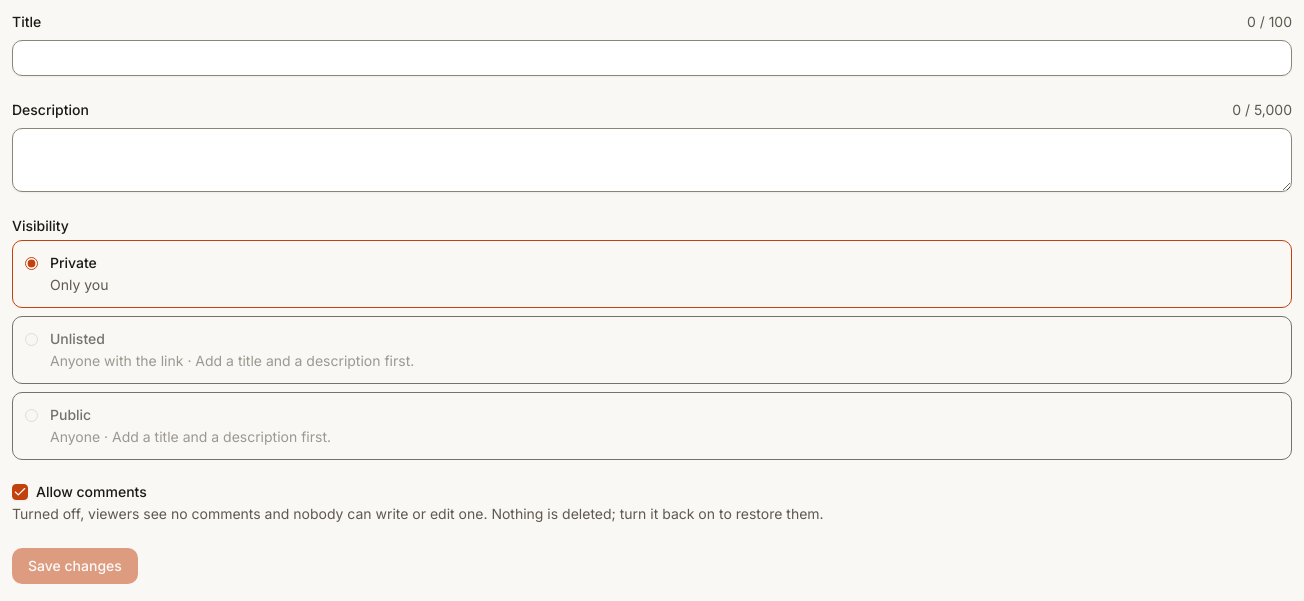
Scenario: EditVideoForm › counts characters as the person types
The image size is (1304, 601).
Type "Holiday" into the field labelled "Title".
click(652, 58); type("Holiday")  # box [12,40,1292,76]
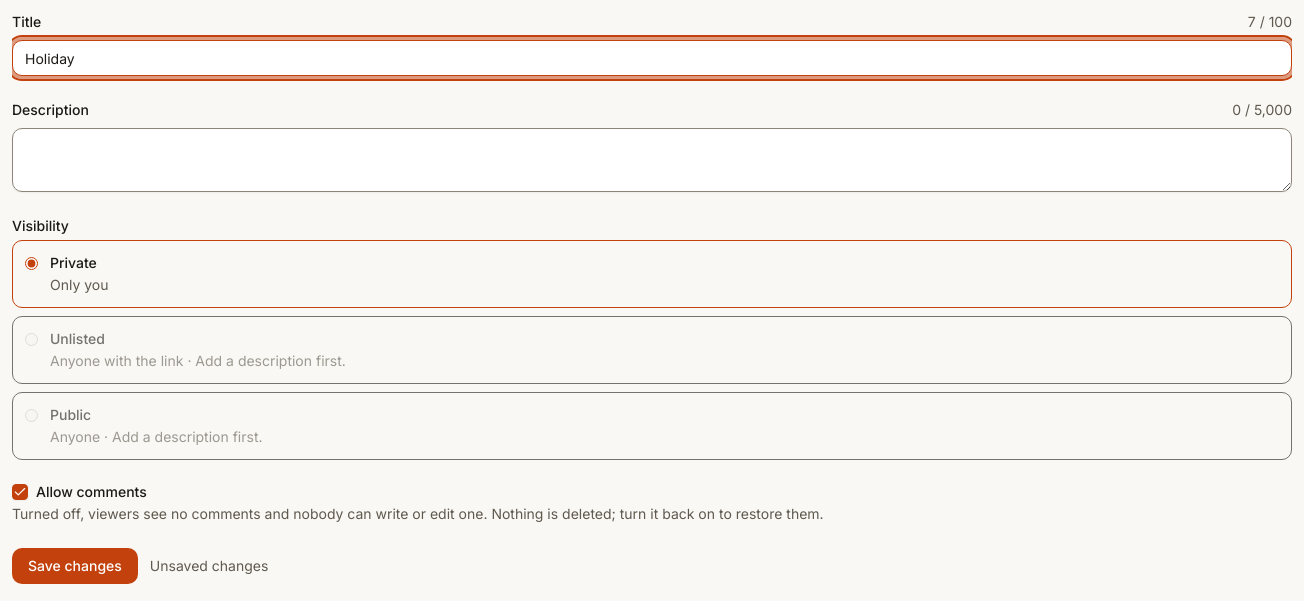
Expected: the text "0 / 5,000" is shown, [1232,100,1292,120]
Expected: the text "7 / 100" is shown, [1248,12,1292,32]
